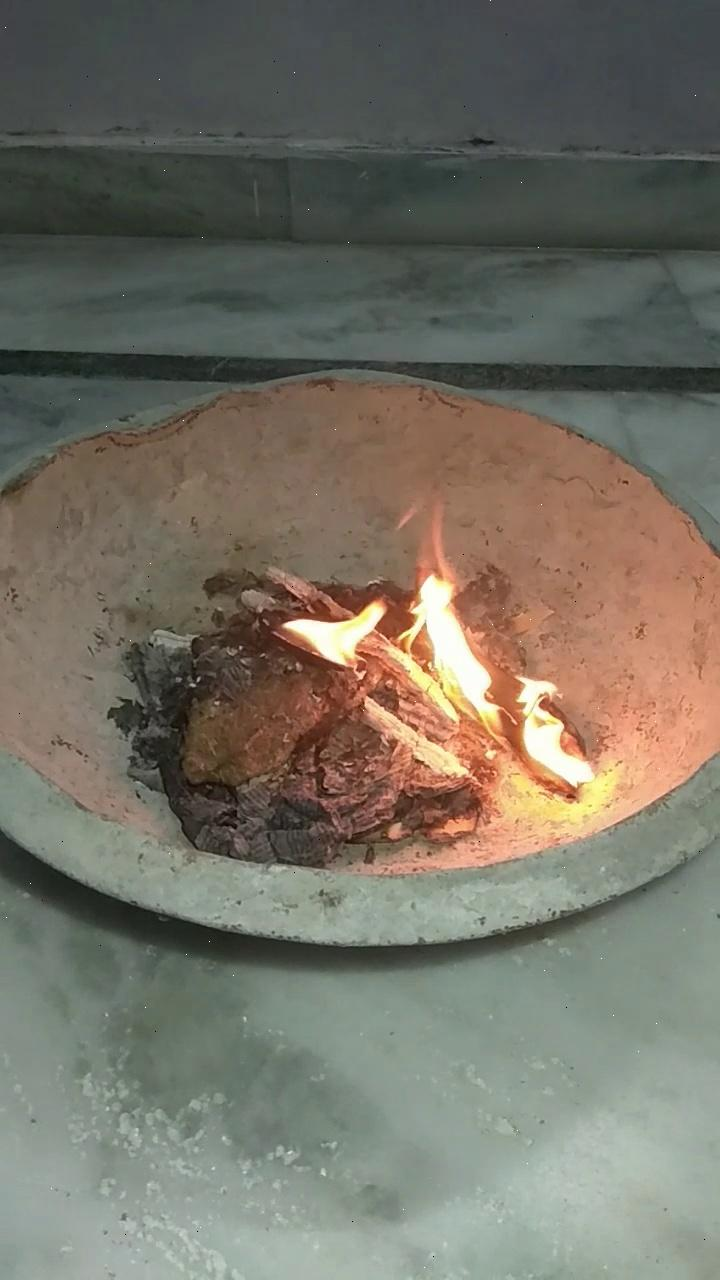fire: (269, 556, 610, 810)
